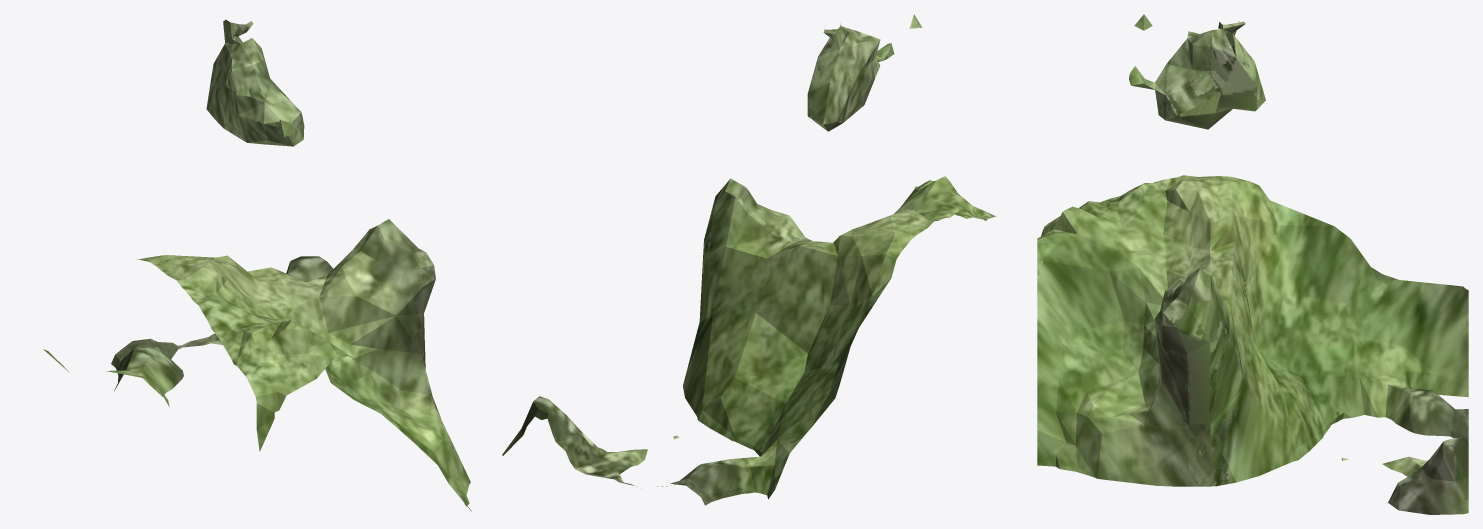
The picture shows the model from 3 angles, left to right: view 1: azimuth 30°, elevation 25°; view 2: azimuth 150°, elevation 25°; view 3: azimuth 270°, elevation 25°; orthographic projection. The views are drawn at different scales.
Bounding box in the file's own units: 2.29 × 2.95 × 2.95.
3 materials, 3 textured.
